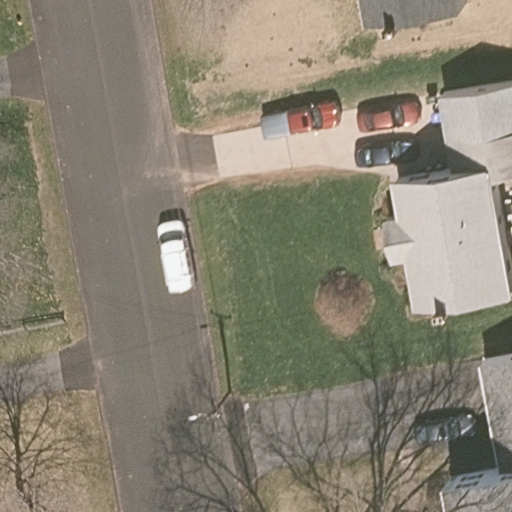DT: (187, 390, 235, 424)
